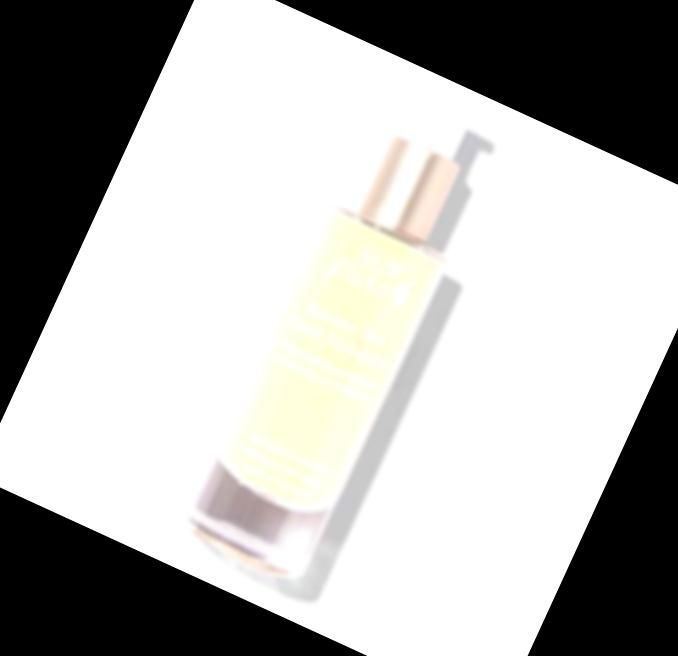cosmetic: (179, 76, 507, 579)
